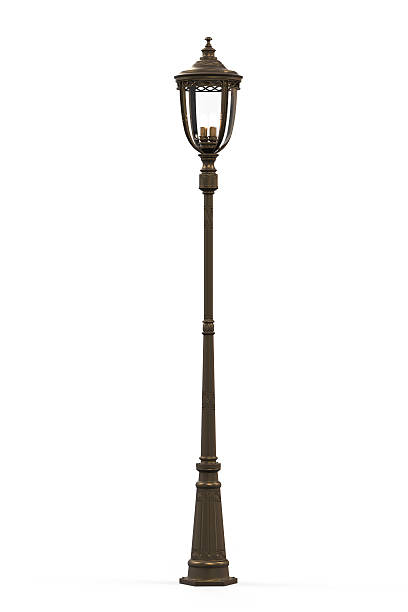light_pole: (173, 53, 252, 593)
